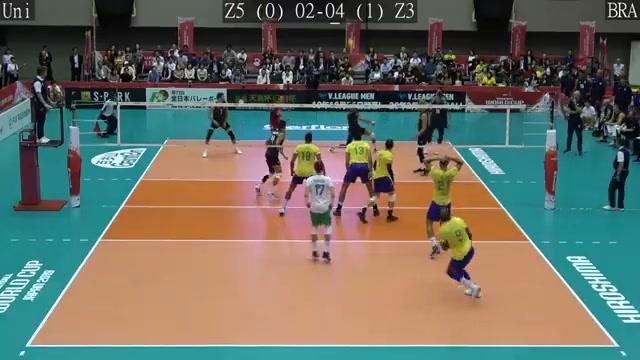ball: (346, 36, 354, 51)
